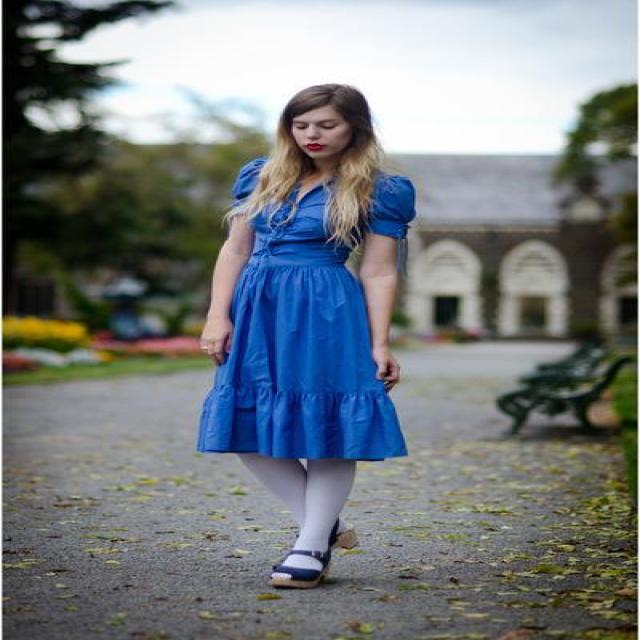dress: (197, 166, 414, 461)
shoe: (288, 525, 342, 590)
